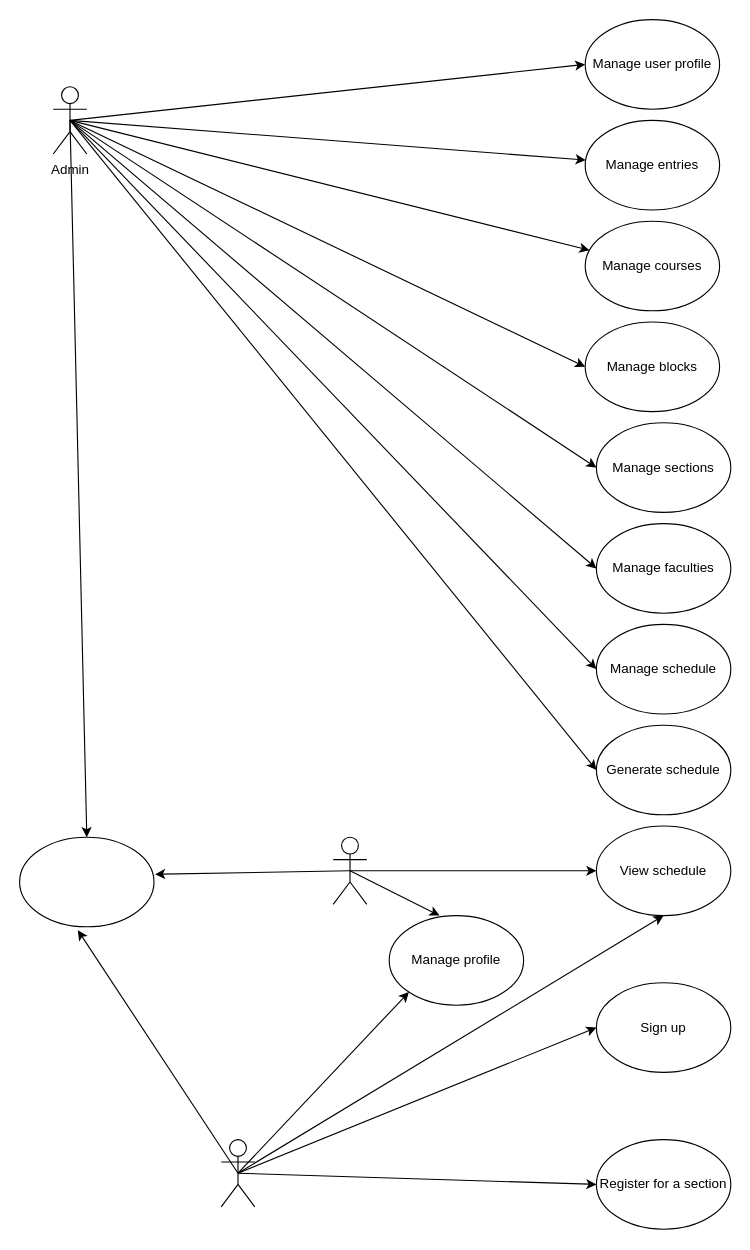
Image size: 750x1250. Some labels were removed from this diagram. The shapes that lost their labels are listed below. From the top down, each one's centre as x and y in pixels, then its label:
At pixel 86 881: "Login".
At pixel 349 870: "Faculty".
At pixel 237 1172: "Student".
